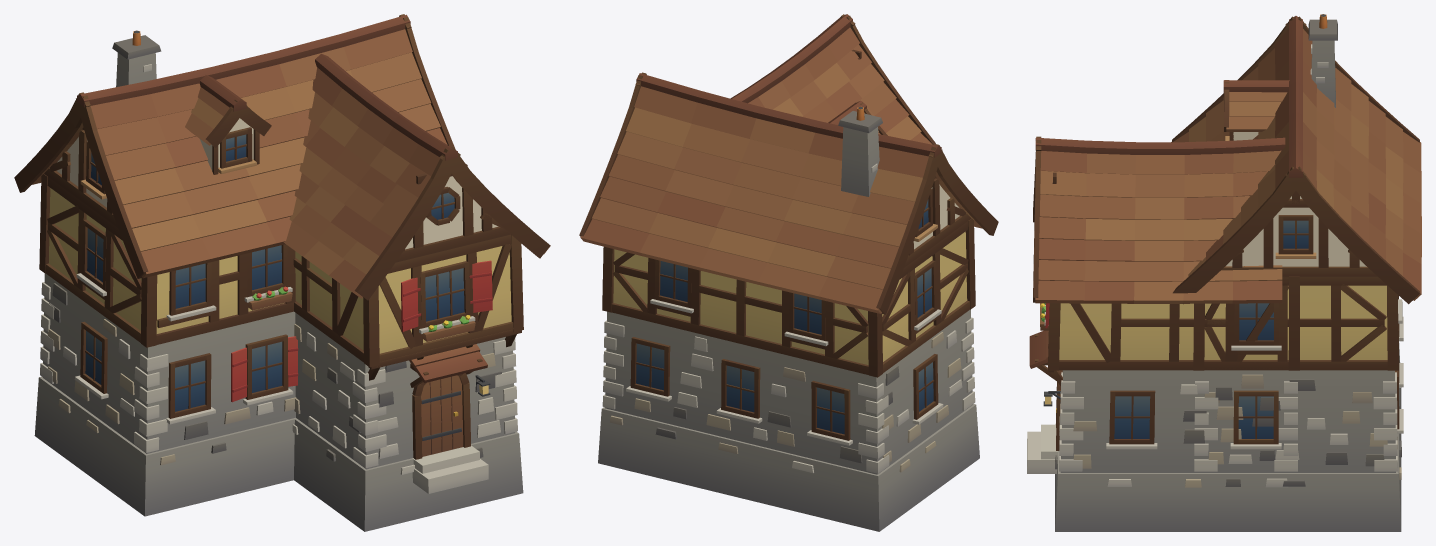
File: house_04_farmhouse.glb
The picture shows the model from 3 angles, left to right: view 1: azimuth 30°, elevation 25°; view 2: azimuth 150°, elevation 25°; view 3: azimuth 270°, elevation 25°; orthographic projection. The views are drawn at different scales.
Parts seen in each view (by area): view 1: house_04_farmhouse; view 2: house_04_farmhouse; view 3: house_04_farmhouse.
Part boxes in pixels (<box>): house_04_farmhouse: <box>14,14,550,531</box>; house_04_farmhouse: <box>579,14,998,531</box>; house_04_farmhouse: <box>1027,14,1421,531</box>.
Size of the model in its own units: 32.65 by 38.9 by 34.69.
Materials: 1 (1 with a texture image).
